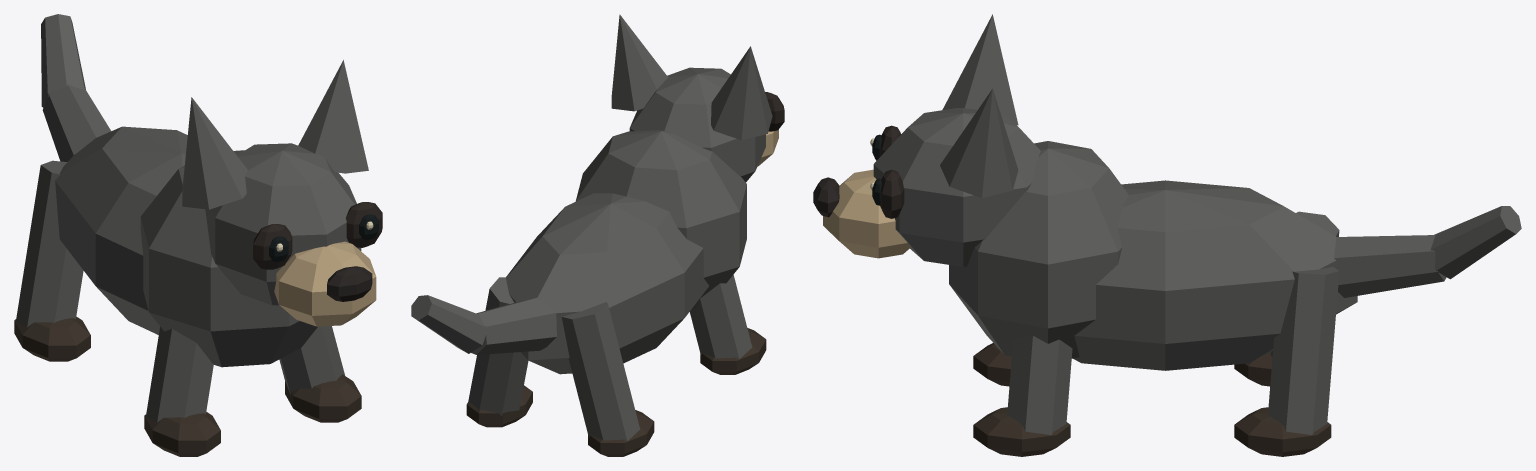
The model's file is fauna-wolf.glb.
3 renders of one model, left to right at view 1: azimuth 30°, elevation 25°; view 2: azimuth 150°, elevation 25°; view 3: azimuth 270°, elevation 25°, orthographic. The views are drawn at different scales.
Visible parts, largest first — view 1: Fauna_wolf; view 2: Fauna_wolf; view 3: Fauna_wolf.
Boxes of the visible parts, x1,y1,x2,y2 form: Fauna_wolf: [14, 14, 382, 456]; Fauna_wolf: [411, 14, 784, 456]; Fauna_wolf: [813, 14, 1521, 456].
Size of the model in its own units: 0.7132 by 1.24 by 2.17.
